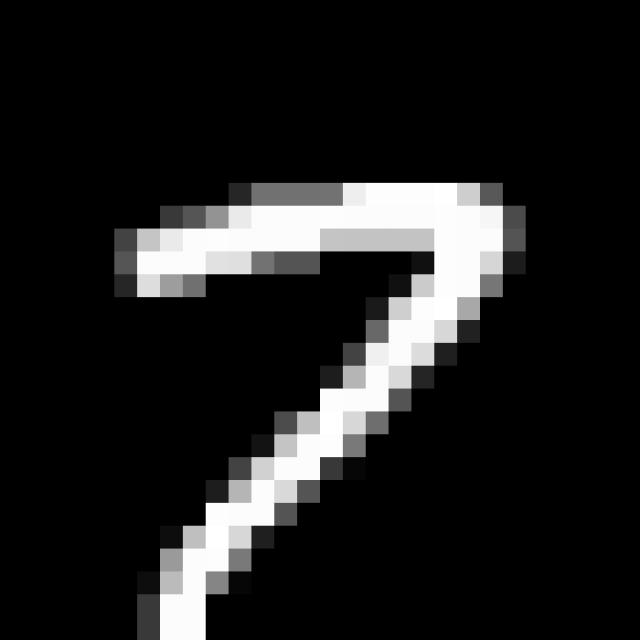seven -7-: (114, 169, 525, 640)
